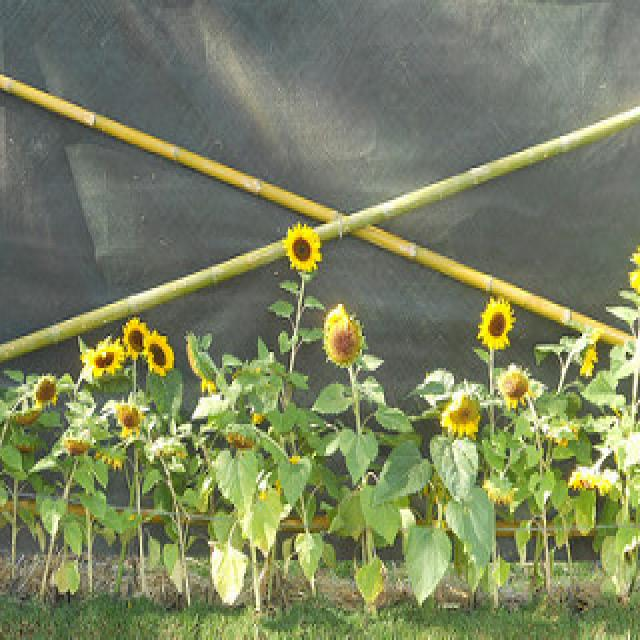sunflower: (318, 301, 368, 373), (476, 287, 518, 364), (279, 220, 325, 273), (441, 387, 487, 437), (79, 340, 129, 383), (136, 331, 176, 381), (497, 363, 533, 413), (568, 464, 618, 499), (57, 427, 99, 464), (112, 396, 146, 439), (483, 478, 519, 518), (120, 313, 149, 362), (32, 369, 60, 415), (224, 423, 258, 457)
